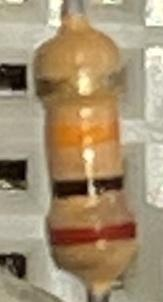Black: (49, 169, 126, 202)
Orange: (47, 119, 120, 149)
Red: (47, 215, 137, 250)
Side-Silver: (34, 70, 124, 99)
